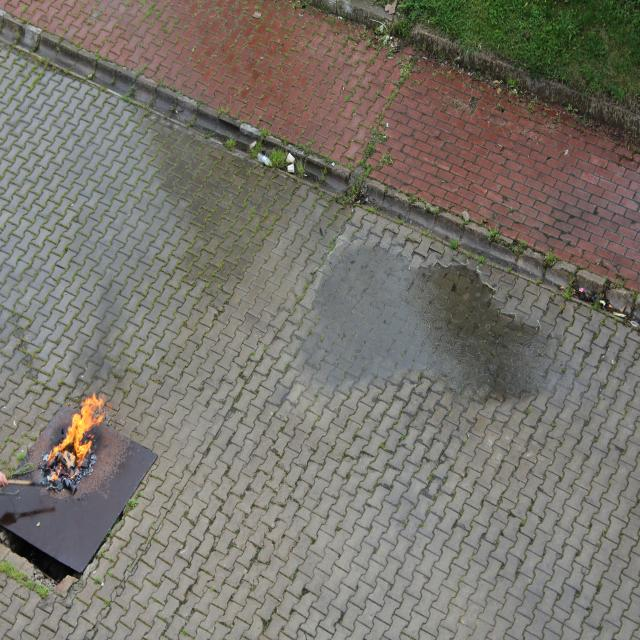fire: (38, 382, 99, 483)
